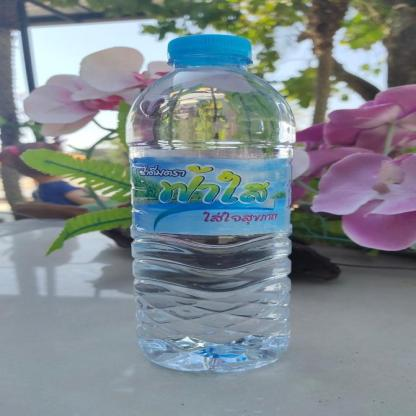Glass Bottle: (126, 34, 295, 373)
